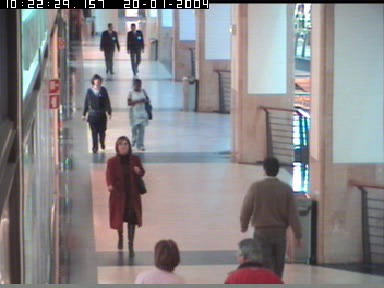person: (239, 157, 301, 284), (105, 135, 147, 257), (225, 238, 279, 284), (131, 238, 186, 283), (84, 73, 112, 153), (126, 78, 150, 149), (99, 23, 119, 74), (124, 24, 144, 74)
